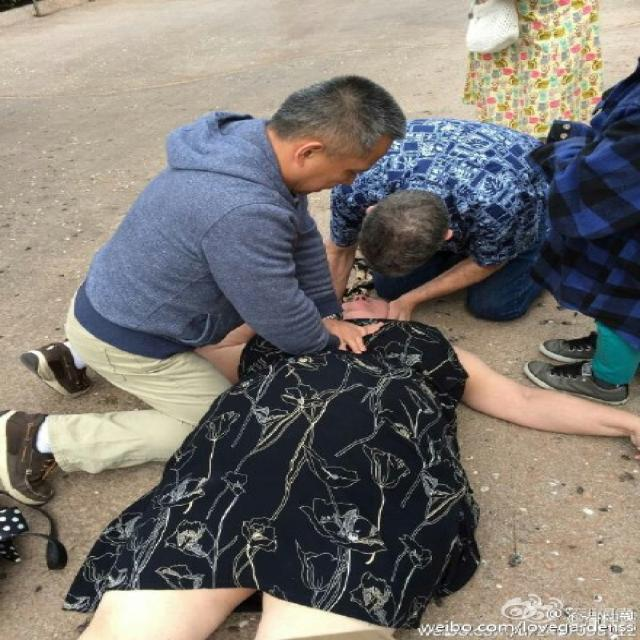fall: (114, 279, 482, 639)
